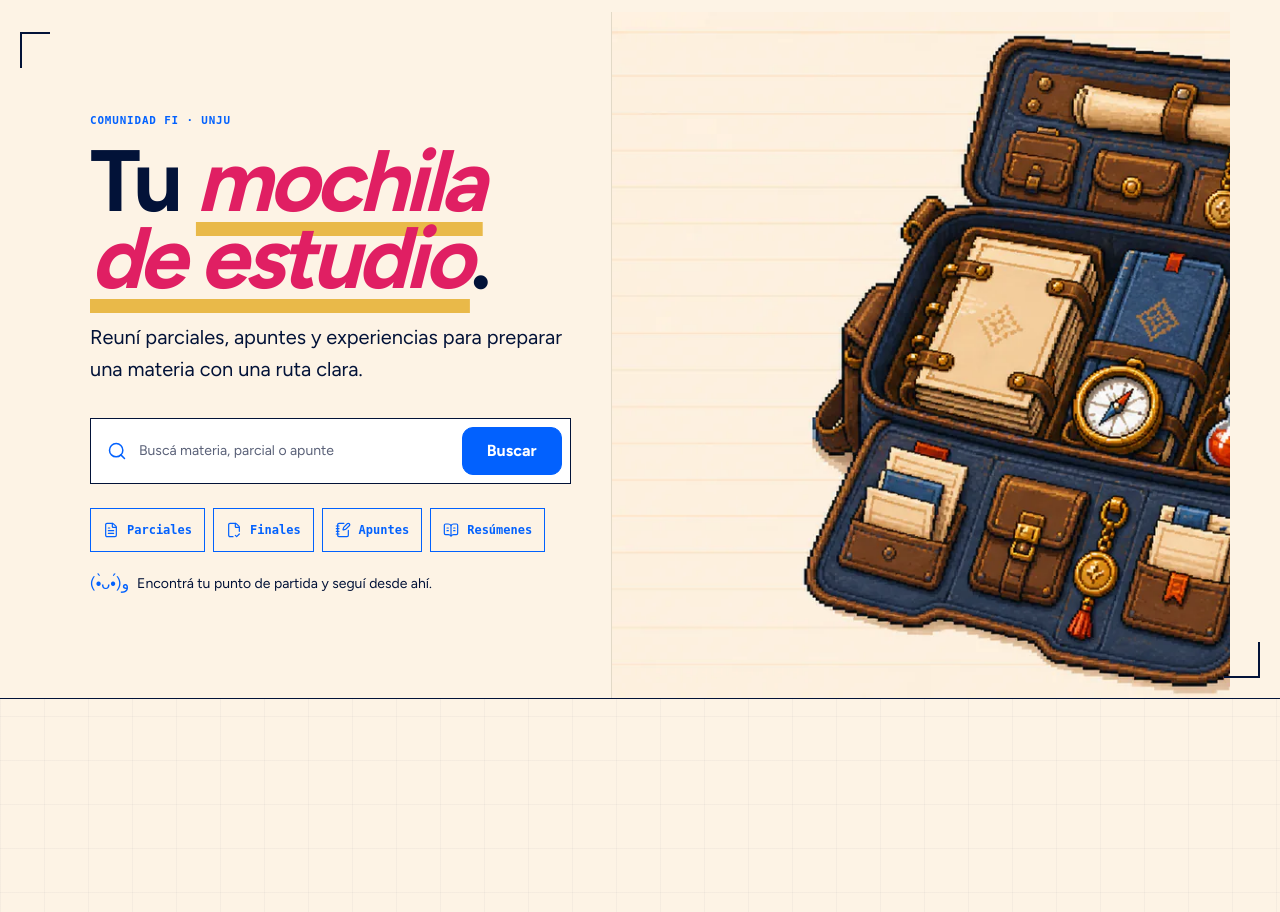
Test: PixelNotebookHome › renders real grouped suggestions with materias before recursos
Type "álgebra" into the search field labelled "Buscá materia, parcial o apunte" at (294, 451), box x1=139 y1=429 x2=450 y2=473
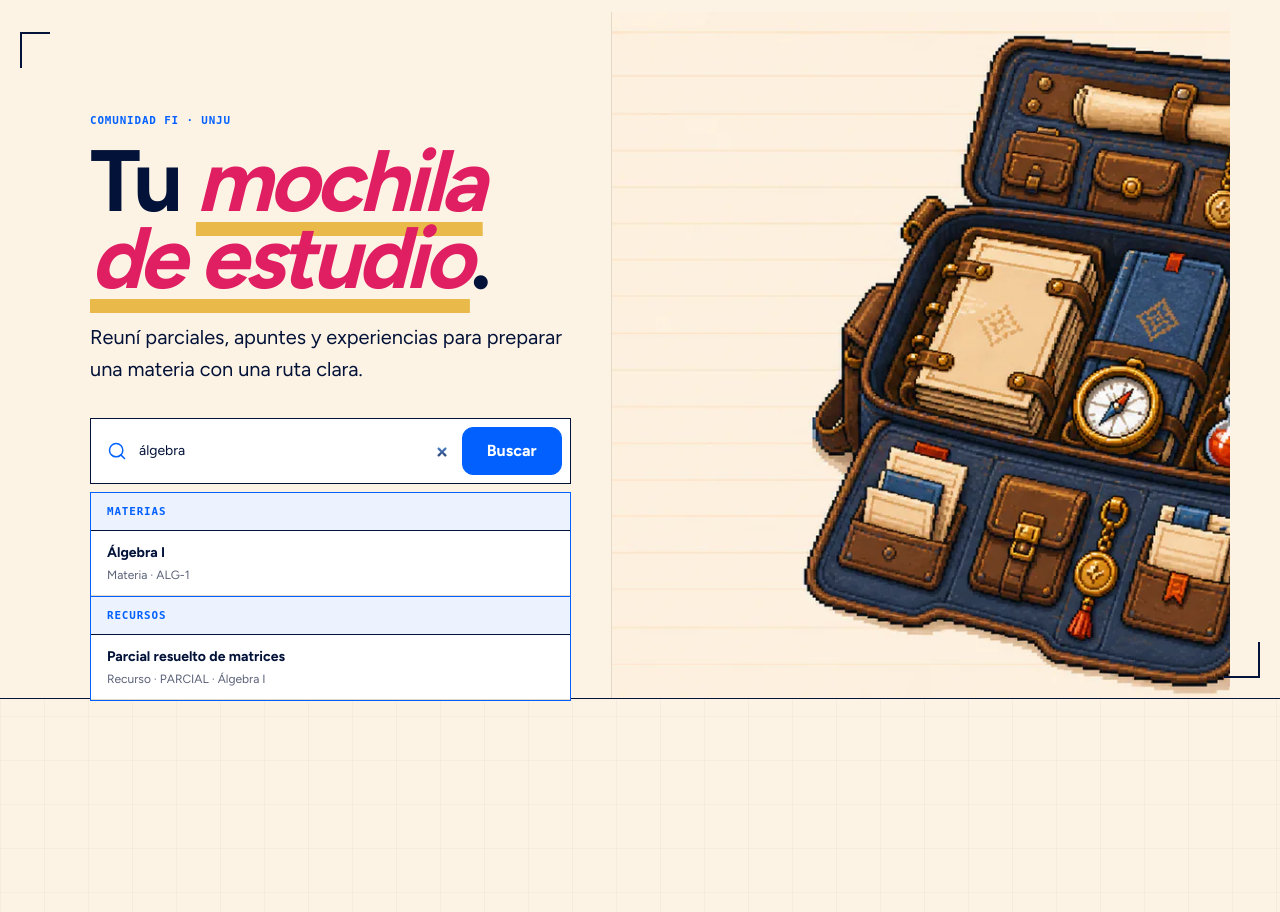
Result: the element "Materias" is shown at x1=91 y1=493 x2=570 y2=596
Result: the link "Parcial resuelto de matrices Recurso · PARCIAL · Álgebra I" is shown at x1=91 y1=635 x2=570 y2=700
